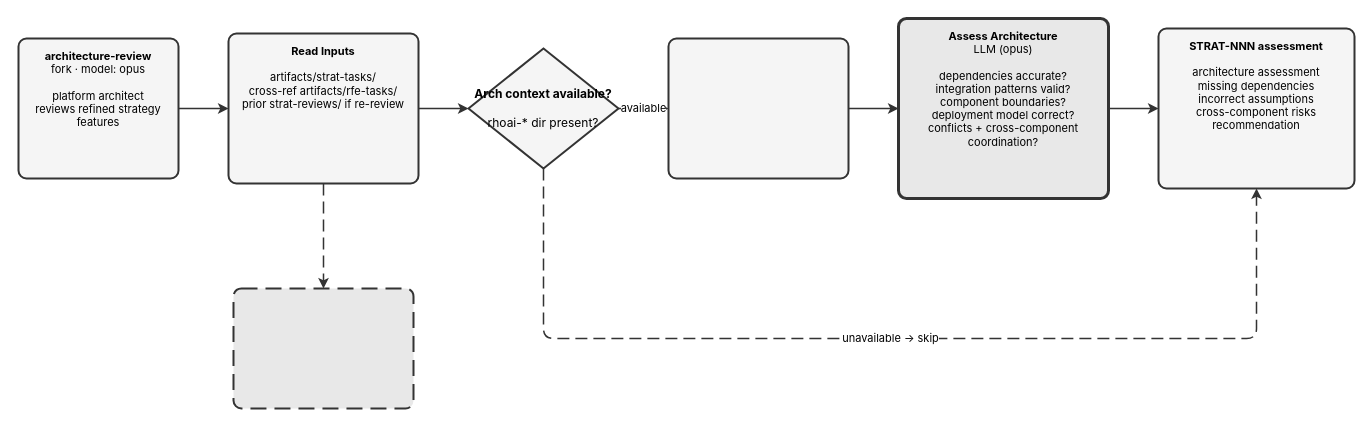
The diagram is 1372 pixels wide and 427 high, and some of its shapes have lost their labels. Each missing label, with the centre of its shape:
"architecture-context PLATFORM.md component docs overlays" belongs at (323,348).
"Load Overlays active overlays only override generated docs e.g. KFP SDK version" belongs at (758,108).
